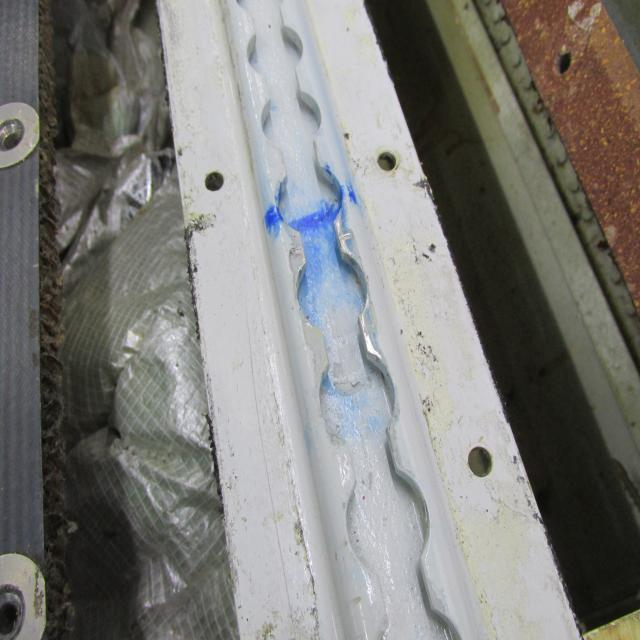Missing Fastener: (1, 556, 44, 640), (445, 434, 507, 482), (0, 105, 38, 165), (190, 158, 238, 202), (534, 40, 582, 81), (370, 135, 410, 183)
